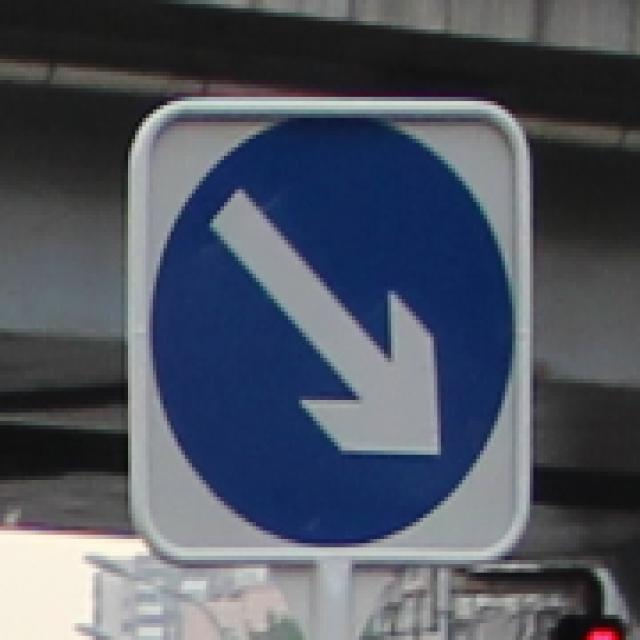Right: (138, 108, 533, 544)
